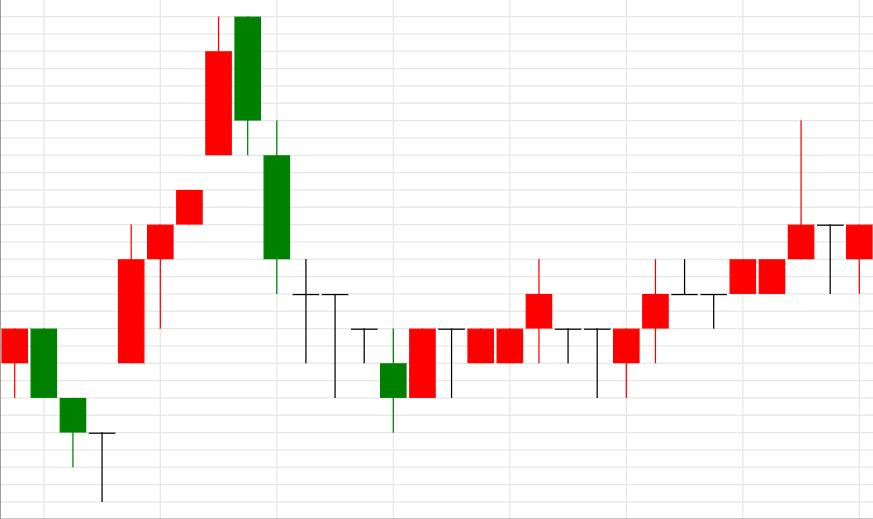shooting_star_fall: (612, 121, 814, 398)
